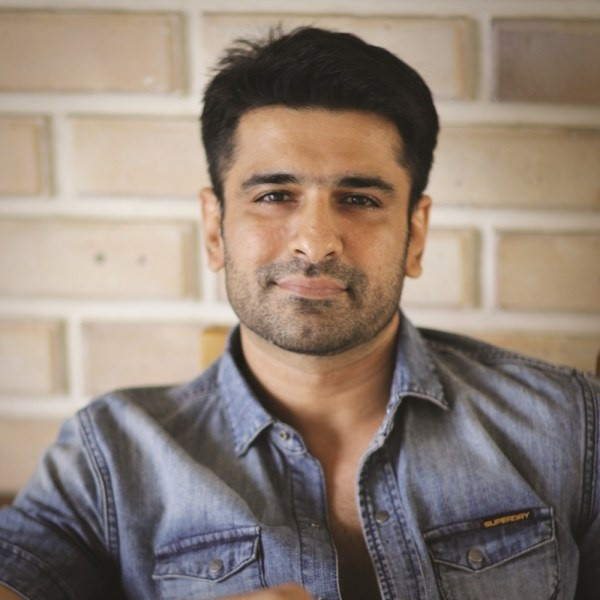face_no_mask: (200, 36, 429, 351)
